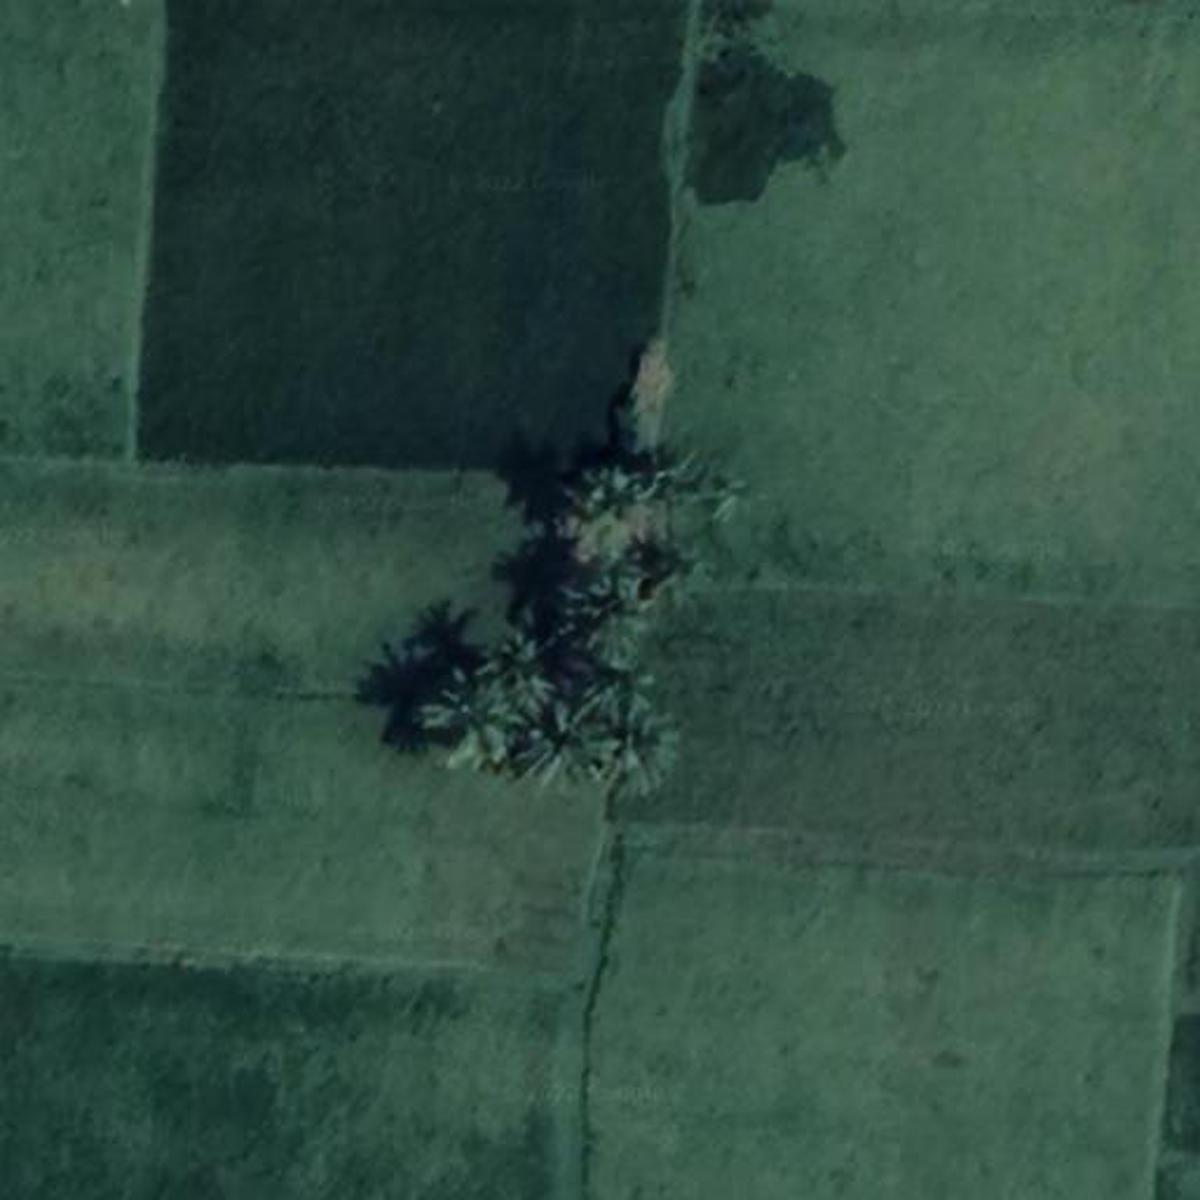coconut: (581, 677, 682, 801), (548, 567, 660, 665), (571, 447, 663, 560), (525, 696, 627, 796), (419, 667, 522, 766), (495, 623, 569, 724), (673, 462, 752, 534), (651, 538, 714, 611)
